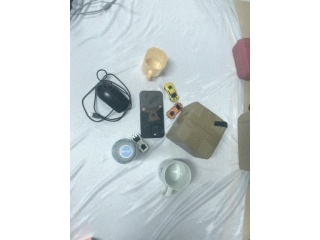bottle: (109, 136, 139, 166)
box: (167, 102, 228, 158)
cup: (159, 159, 193, 197), (142, 47, 169, 80)
mouse: (94, 70, 133, 118)
phone: (138, 88, 166, 140)
toy_car: (163, 82, 179, 103), (133, 136, 151, 153), (166, 103, 182, 119)
